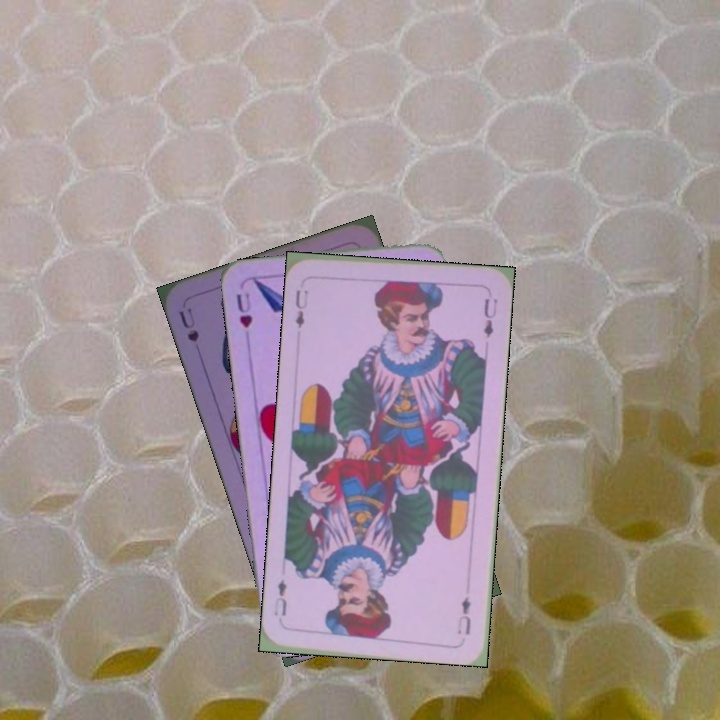EU: (453, 593, 474, 637), (291, 286, 311, 331)
HU: (232, 288, 255, 330)
SU: (175, 304, 202, 345)
